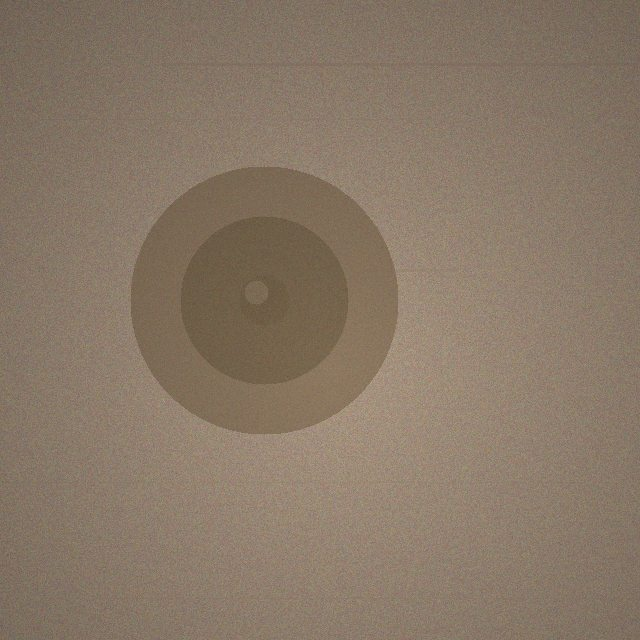good: (130, 166, 398, 434)
